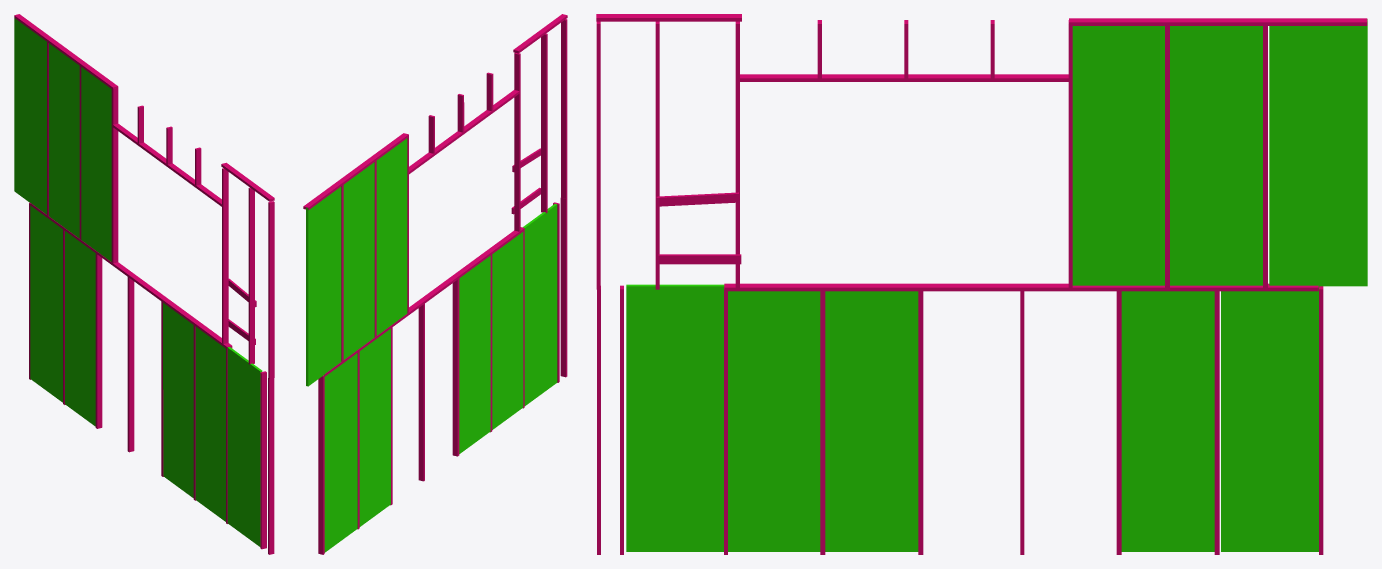
Rendered from BH04B_Wall_02_Break_B.fbx.
3 views of the same model, side by side, from view 1: azimuth 30°, elevation 25°; view 2: azimuth 150°, elevation 25°; view 3: azimuth 270°, elevation 25° (orthographic). The views are drawn at different scales.
Parts seen in each view (by area): view 1: BH04B_Wall_02_Break_B; view 2: BH04B_Wall_02_Break_B; view 3: BH04B_Wall_02_Break_B.
Part boxes in pixels (x1=…): BH04B_Wall_02_Break_B: x1=14, y1=14, x2=274, y2=554; BH04B_Wall_02_Break_B: x1=303, y1=14, x2=567, y2=554; BH04B_Wall_02_Break_B: x1=596, y1=14, x2=1367, y2=554.
Size of the model in its own units: 12.91 by 607 by 790.
